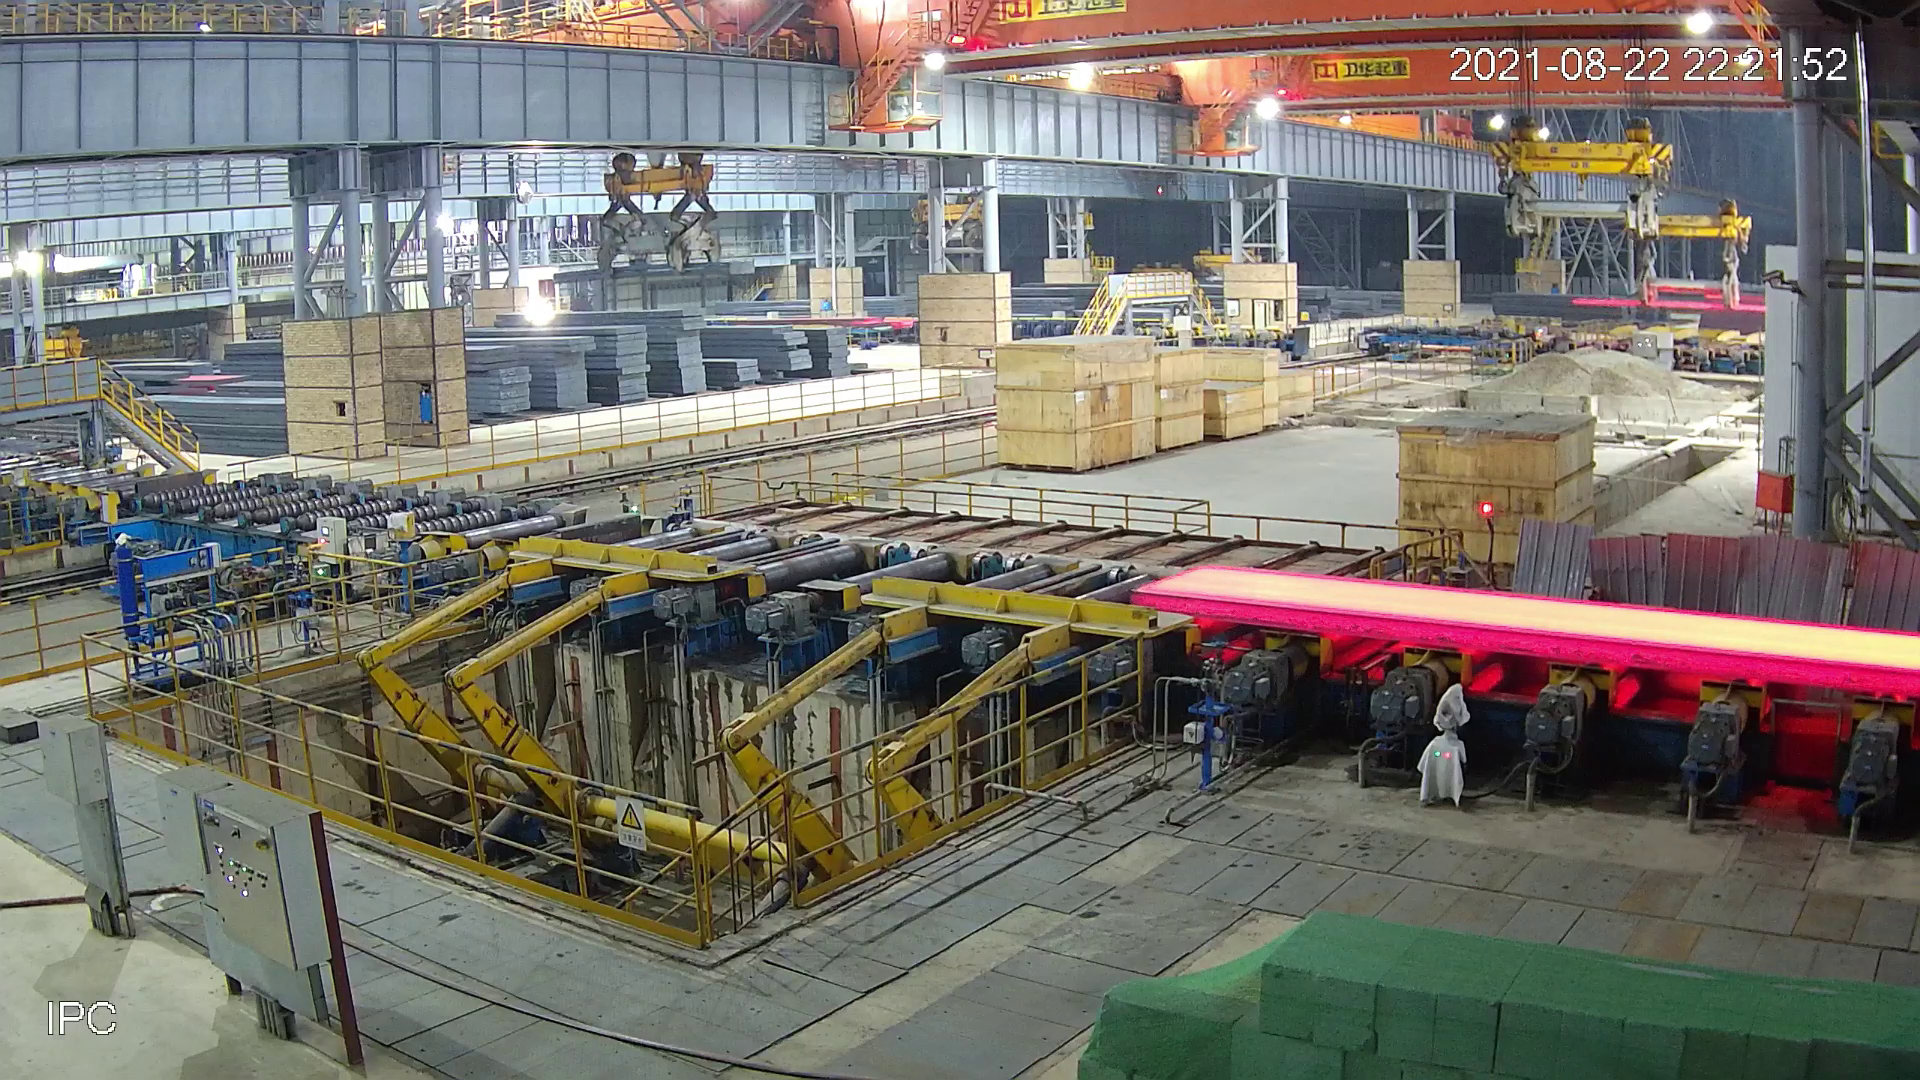slab: (1130, 562, 1920, 696)
